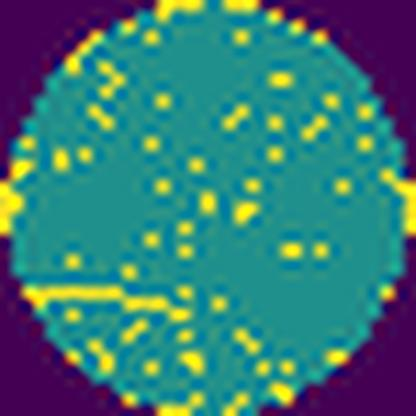Scratch: (19, 277, 197, 326)
